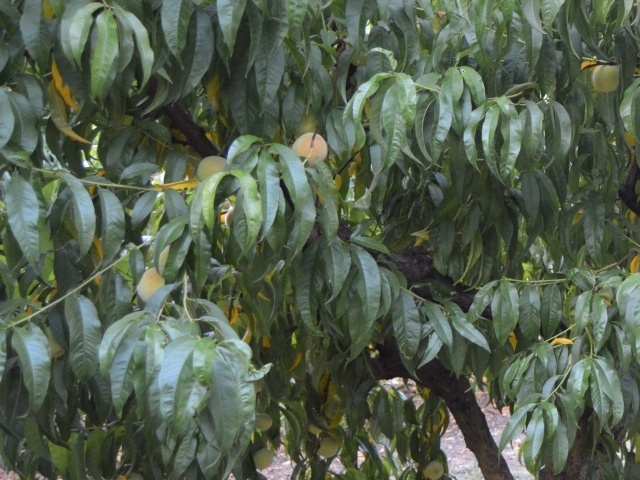peach: (288, 130, 333, 169), (134, 265, 168, 304), (589, 58, 622, 97), (192, 152, 231, 184), (313, 435, 341, 461), (249, 446, 275, 472), (251, 409, 275, 436), (422, 459, 445, 479)
